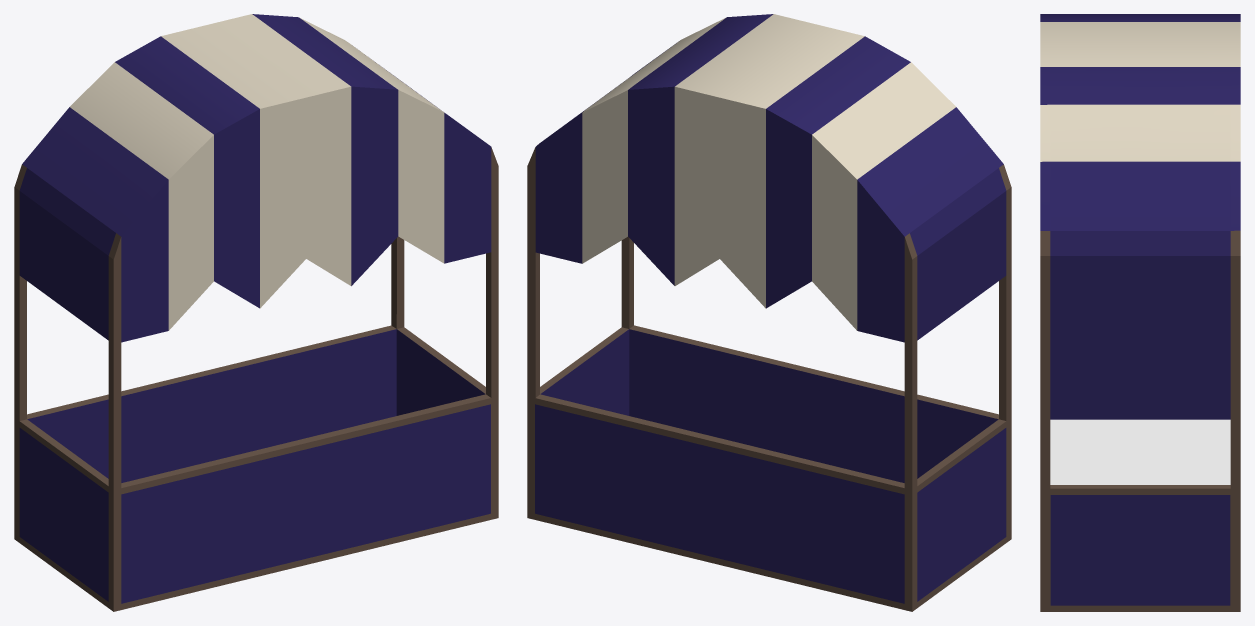
The model's file is shop.glb.
3 views of the same model, side by side, from view 1: azimuth 30°, elevation 25°; view 2: azimuth 150°, elevation 25°; view 3: azimuth 270°, elevation 25° (orthographic).
Parts seen in each view (by area): view 1: Upgrade_shop; view 2: Upgrade_shop; view 3: Upgrade_shop.
Part boxes in pixels (bbox=[...]): Upgrade_shop: bbox=[14, 14, 498, 611]; Upgrade_shop: bbox=[527, 14, 1011, 611]; Upgrade_shop: bbox=[1040, 14, 1240, 611].
Size of the model in its own units: 0.5431 by 0.6304 by 0.2426.
